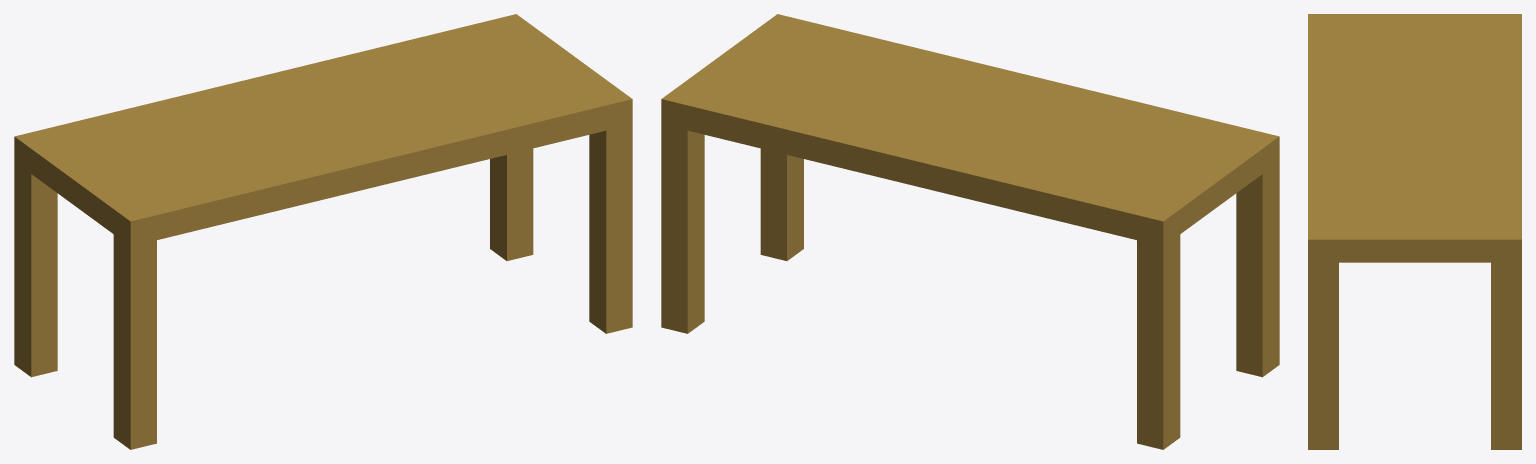
File: Meja.fbx
The picture shows the model from 3 angles, left to right: view 1: azimuth 30°, elevation 25°; view 2: azimuth 150°, elevation 25°; view 3: azimuth 270°, elevation 25°; orthographic projection. The views are drawn at different scales.
Parts seen in each view (by area): view 1: Cube.006; view 2: Cube.006; view 3: Cube.006.
Boxes of the visible parts, left/top/right/bottom form: Cube.006: left=14, top=14, right=632, bottom=449; Cube.006: left=661, top=14, right=1279, bottom=449; Cube.006: left=1308, top=14, right=1521, bottom=449.
Bounding box in the file's own units: 499 × 217 × 200.
